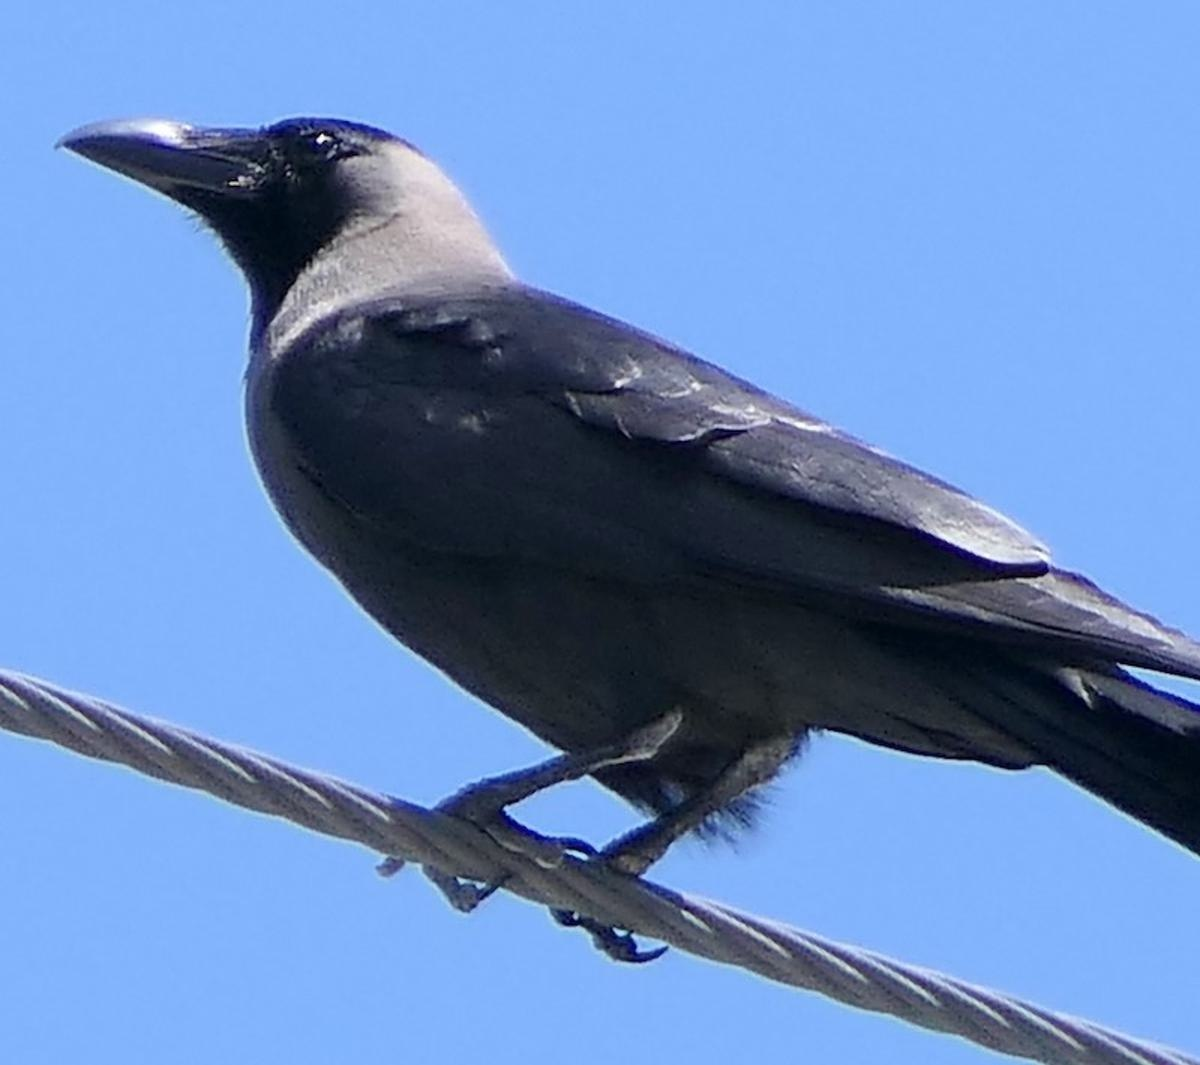crow: (37, 74, 1200, 989)
